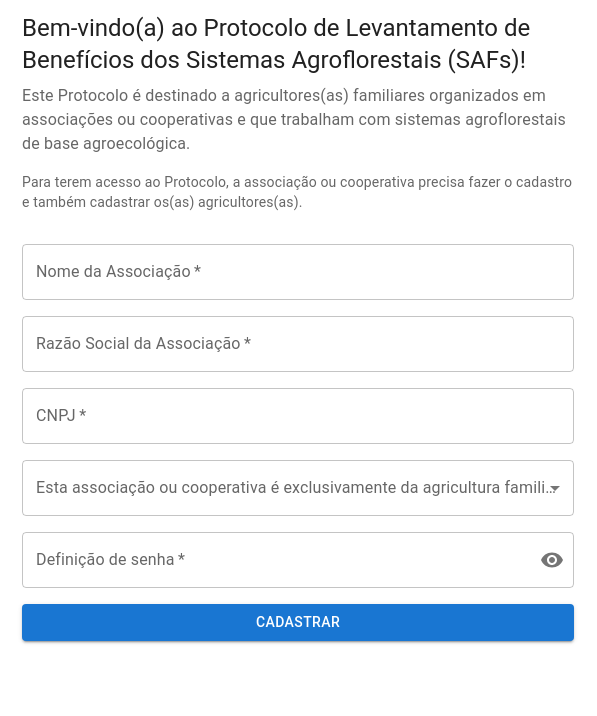
OrganizacaoCadastroPage › mostra os erros de todos os campos retornados pelo backend, não só um
Type "Coop Teste" into the field labelled "Nome da Associação *".
click(298, 272); type("Coop Teste")  # box [22,244,574,300]
Type "Coop Teste LTDA" into the field labelled "Razão Social da Associação *".
click(298, 344); type("Coop Teste LTDA")  # box [22,316,574,372]
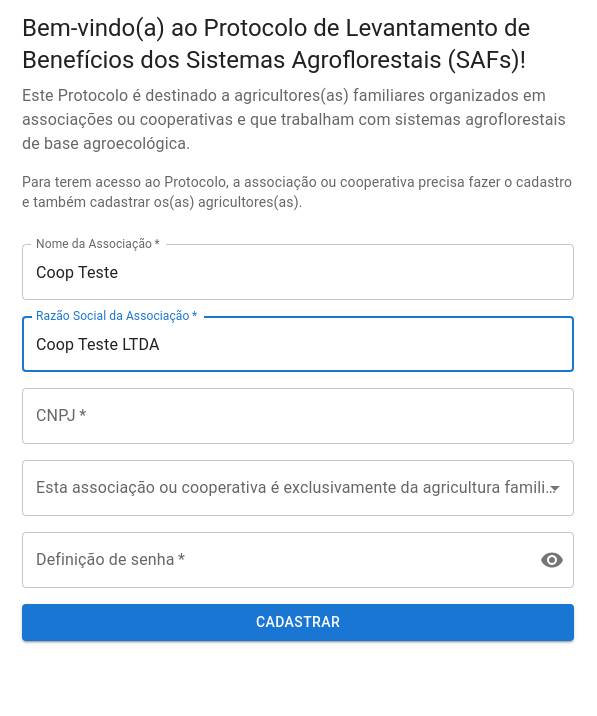
Type "123" into the field labelled "CNPJ *".
click(298, 416); type("123")  # box [22,388,574,444]
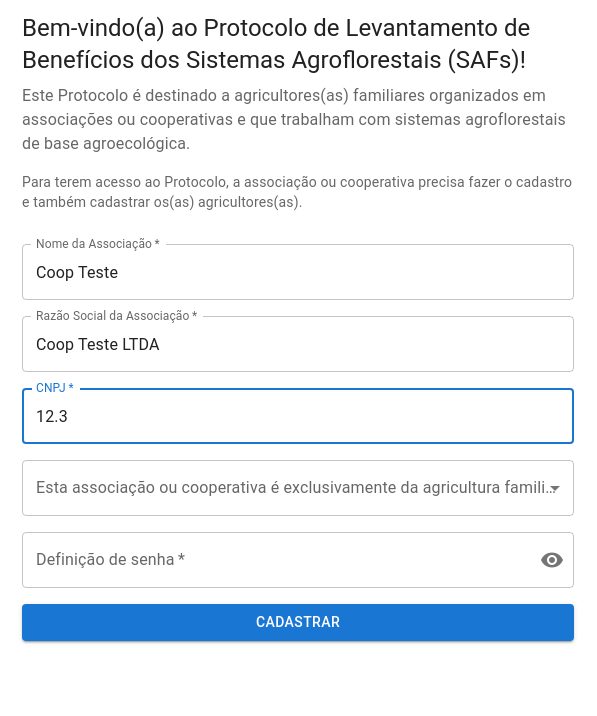
Click the dropdown named "exclusivamente da agricultura familiar".
click(298, 488)  # box [22,460,574,516]
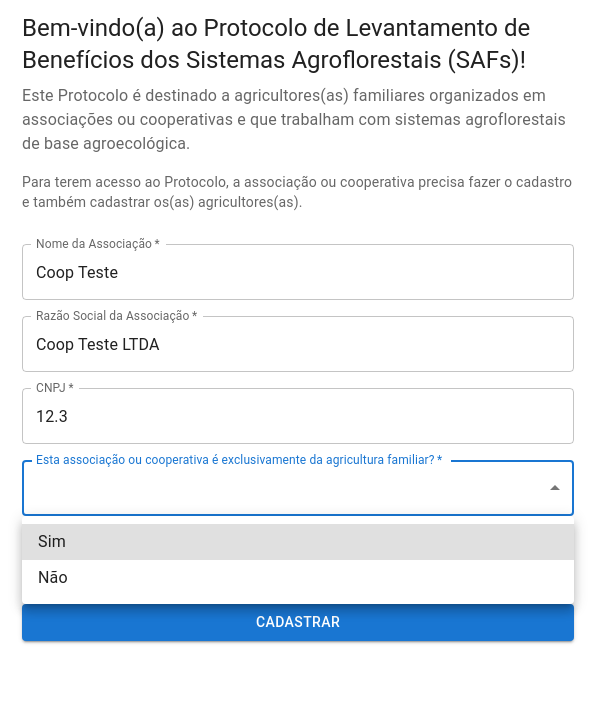
Click the option "Sim".
click(52, 542)  # box [22,524,574,560]
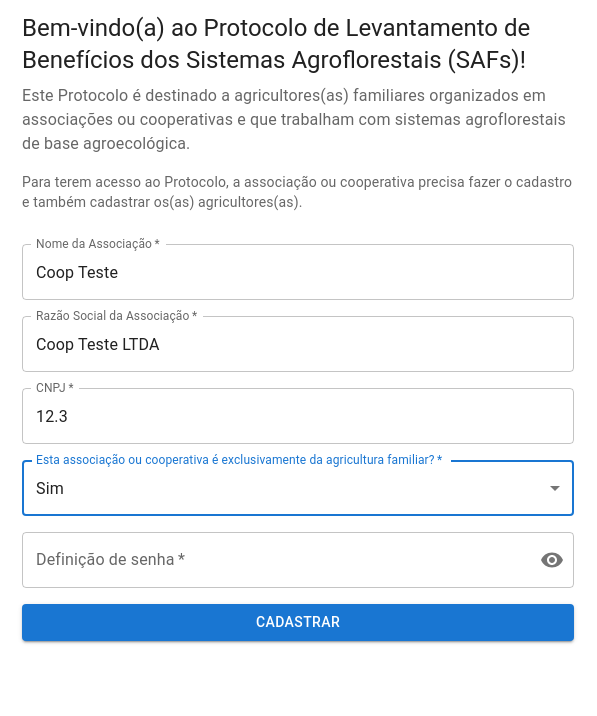
Type "senha-com-oito-ou-mais" into the password field labelled "Definição de senha *".
click(273, 560); type("senha-com-oito-ou-mais")  # box [22,532,524,588]
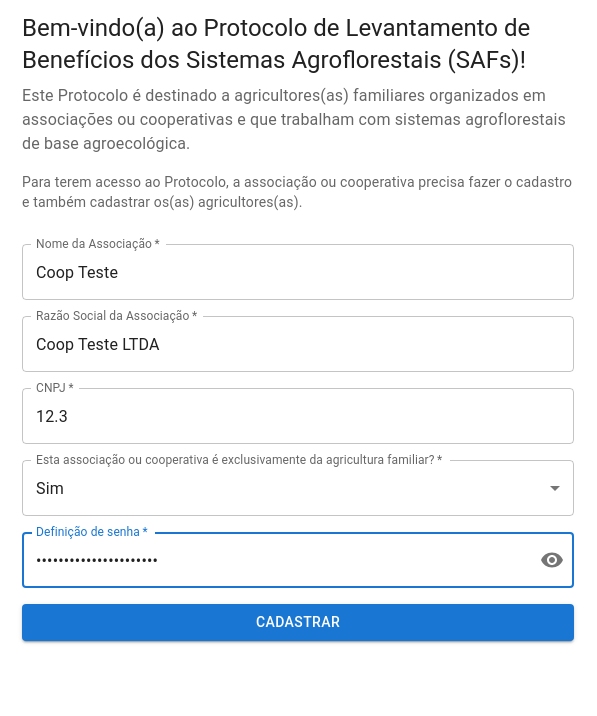
Click the button "Cadastrar".
click(298, 623)  # box [22,604,574,641]
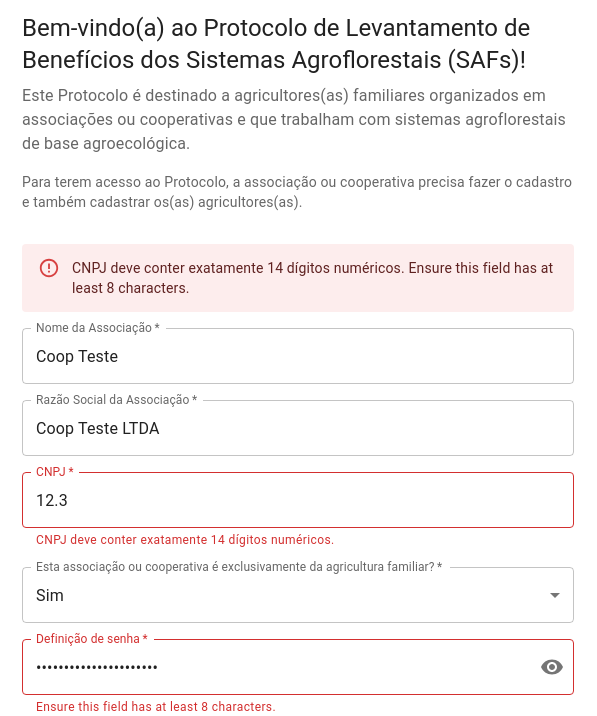
Check: the message is shown, box [22,244,574,312]
Check: the message shows "CNPJ deve conter exatamente 14 dígitos numéricos.", box [72,260,553,296]
Check: the message shows "Ensure this field has at least 8 characters.", box [72,260,553,296]
